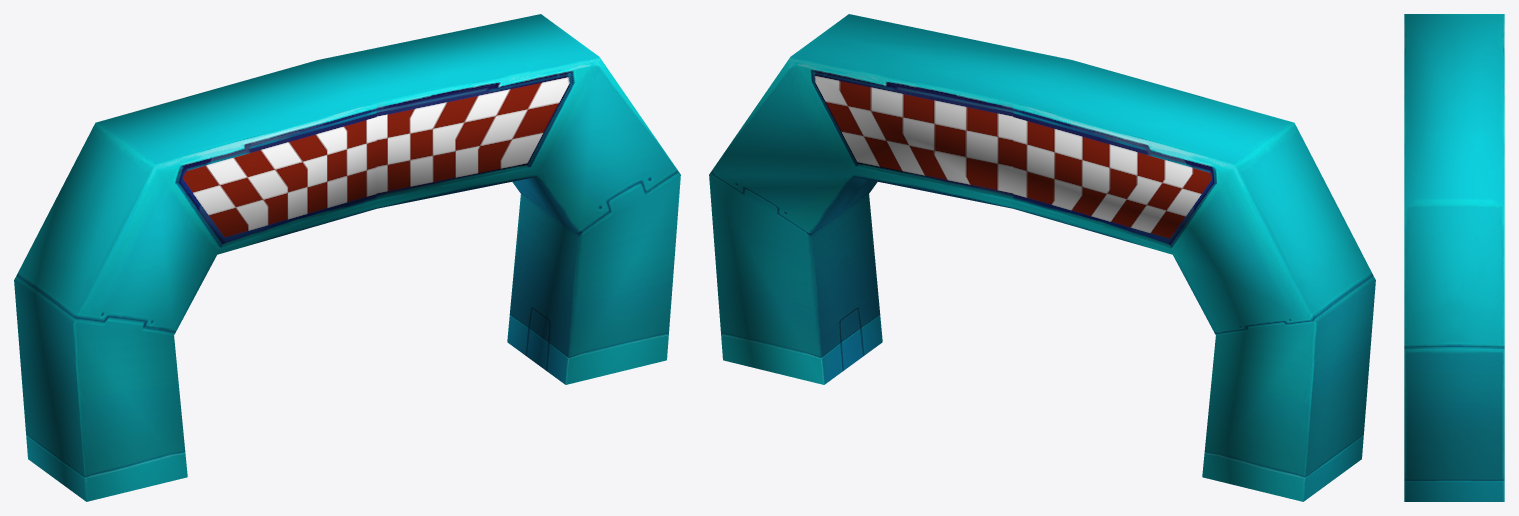
File: cj_paifang1.fbx
3 renders of one model, left to right at view 1: azimuth 30°, elevation 25°; view 2: azimuth 150°, elevation 25°; view 3: azimuth 270°, elevation 25°, orthographic. The views are drawn at different scales.
Visible parts, largest first — view 1: cj_paifang1; view 2: cj_paifang1; view 3: cj_paifang1.
Part boxes in pixels (bbox=[...]): cj_paifang1: bbox=[14, 14, 680, 501]; cj_paifang1: bbox=[709, 14, 1375, 501]; cj_paifang1: bbox=[1404, 14, 1504, 501].
Size of the model in its own units: 7984 by 4119 by 1330.
